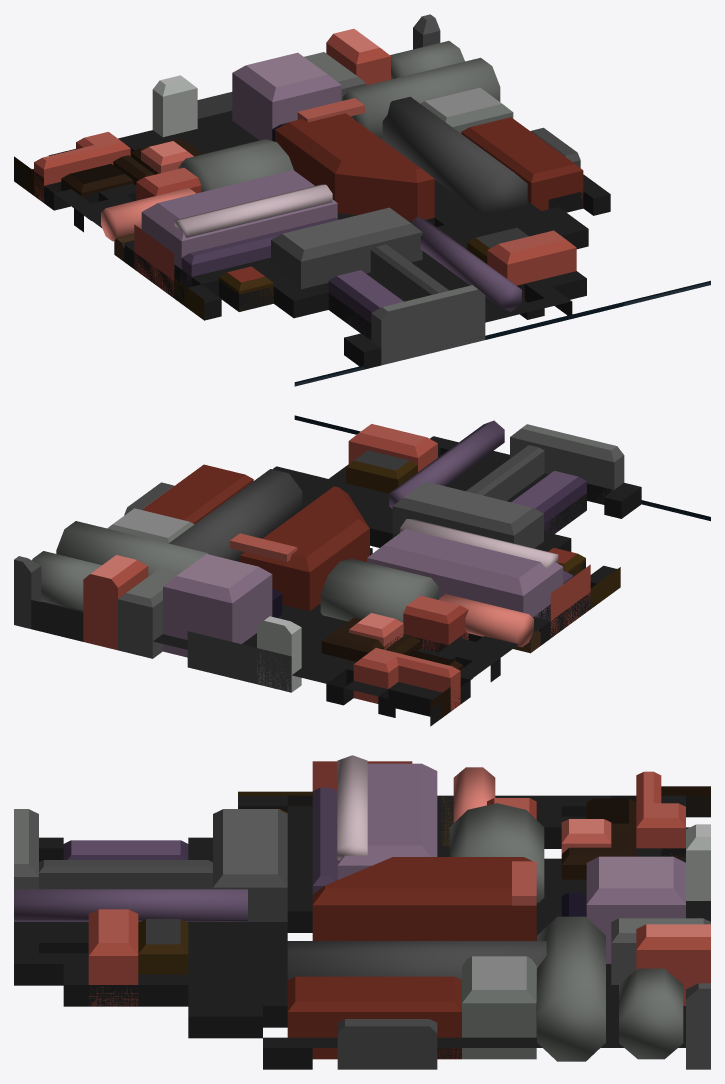
Rendered from newshu-41.glb.
3 renders of one model, top to bottom at view 1: azimuth 30°, elevation 25°; view 2: azimuth 150°, elevation 25°; view 3: azimuth 270°, elevation 25°, orthographic. The views are drawn at different scales.
Visible parts, largest first — view 1: newshu-41; view 2: newshu-41; view 3: newshu-41.
Part boxes in pixels (x1,y1,x2,y2): newshu-41: (14, 14, 710, 386); newshu-41: (14, 415, 710, 726); newshu-41: (14, 755, 710, 1069).
Bounding box in the file's own units: 2 × 0.34 × 2.33.
